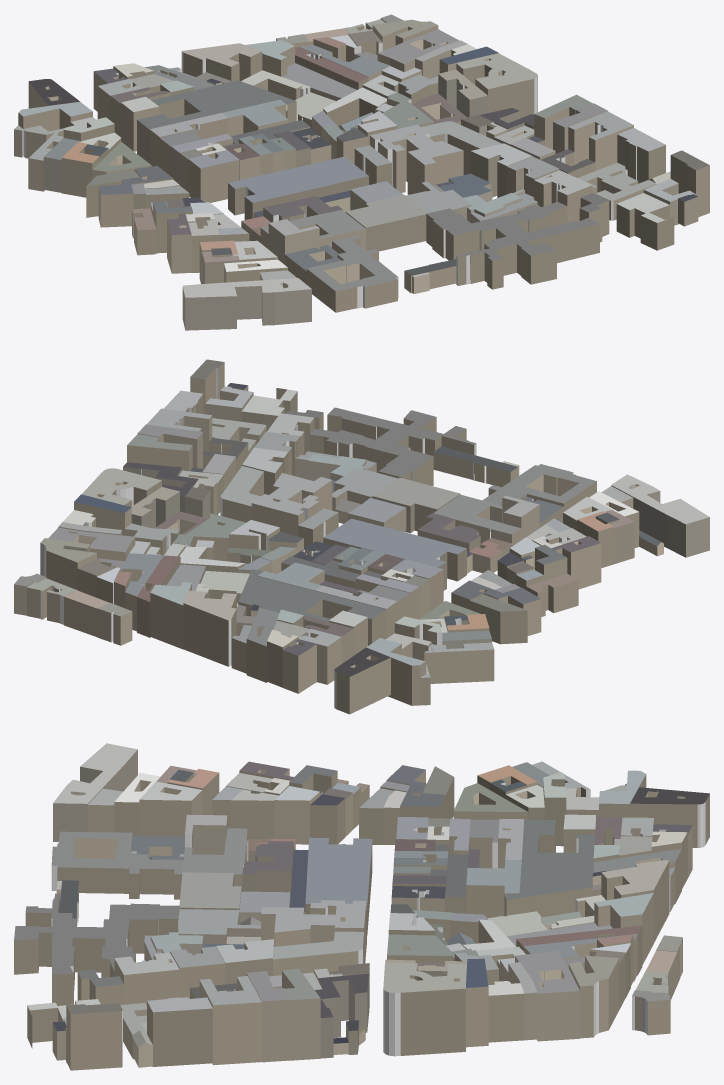
The picture shows the model from 3 angles, top to bottom: view 1: azimuth 30°, elevation 25°; view 2: azimuth 150°, elevation 25°; view 3: azimuth 270°, elevation 25°; orthographic projection. The views are drawn at different scales.
Parts seen in each view (by area): view 1: tuile; view 2: tuile; view 3: tuile.
Part boxes in pixels (left/top/right/bottom): tuile: left=14, top=14, right=709, bottom=330; tuile: left=14, top=359, right=709, bottom=714; tuile: left=14, top=743, right=709, bottom=1070.
Size of the model in its own units: 282 by 29.31 by 282.
